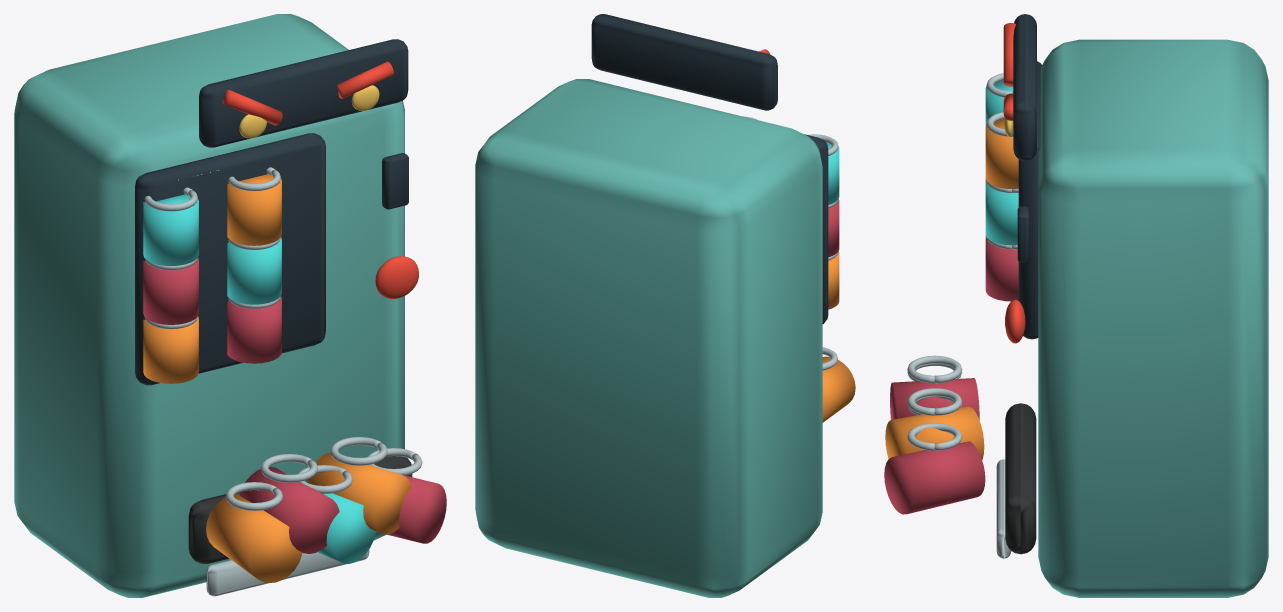
The model's file is S08_Angry_Campus_Vending_Machine.glb.
The picture shows the model from 3 angles, left to right: view 1: azimuth 30°, elevation 25°; view 2: azimuth 150°, elevation 25°; view 3: azimuth 270°, elevation 25°; orthographic projection. The views are drawn at different scales.
Visible parts, largest first — view 1: S08 solid mint steel body, S08_MACHINE_ACTOR | Vending black glass monitor, S08 large angry OLED face above sodas, S08_FLYING_CAN_ACTOR | Fizzy orange soda aluminum, S08_FLYING_CAN_ACTOR | School cola burgundy can, S08_MACHINE_ACTOR | Mint soda bottle bright teal, S08_MACHINE_ACTOR | Fizzy orange soda aluminum, S08_MACHINE_ACTOR | School cola burgundy can, S08_MACHINE_ACTOR | Steel reinforced chrome bevel, S08_FLYING_CAN_ACTOR | Steel reinforced chrome bevel, S08_FACE_ACTOR | Red vending emergency coin reject button, S08 real expelled beverage aluminum cylinder.002 (+2 smaller); view 2: S08 solid mint steel body, S08 large angry OLED face above sodas, S08_FLYING_CAN_ACTOR | Fizzy orange soda aluminum, S08_MACHINE_ACTOR | Vending black glass monitor, S08_MACHINE_ACTOR | Mint soda bottle bright teal, S08_MACHINE_ACTOR | School cola burgundy can, S08_MACHINE_ACTOR | Fizzy orange soda aluminum; view 3: S08 solid mint steel body, S08_FLYING_CAN_ACTOR | School cola burgundy can, S08 snarling lower output hatch, S08_MACHINE_ACTOR | Vending black glass monitor, S08 large angry OLED face above sodas, S08_FLYING_CAN_ACTOR | Steel reinforced chrome bevel, S08_FLYING_CAN_ACTOR | Fizzy orange soda aluminum, S08_MACHINE_ACTOR | Mint soda bottle bright teal, S08_MACHINE_ACTOR | Steel reinforced chrome bevel, S08_MACHINE_ACTOR | School cola burgundy can, S08_MACHINE_ACTOR | Fizzy orange soda aluminum, S08_FACE_ACTOR | Red vending emergency coin reject button.
Part boxes in pixels (left/top/right/bottom): S08 solid mint steel body: left=14, top=14, right=404, bottom=597; S08_MACHINE_ACTOR | Vending black glass monitor: left=135, top=133, right=408, bottom=385; S08 large angry OLED face above sodas: left=199, top=39, right=408, bottom=147; S08_FLYING_CAN_ACTOR | Fizzy orange soda aluminum: left=206, top=452, right=411, bottom=582; S08_FLYING_CAN_ACTOR | School cola burgundy can: left=239, top=467, right=446, bottom=553; S08_MACHINE_ACTOR | Mint soda bottle bright teal: left=143, top=194, right=281, bottom=304; S08_MACHINE_ACTOR | Fizzy orange soda aluminum: left=143, top=174, right=281, bottom=383; S08_MACHINE_ACTOR | School cola burgundy can: left=143, top=258, right=281, bottom=363; S08_MACHINE_ACTOR | Steel reinforced chrome bevel: left=144, top=167, right=369, bottom=596; S08_FLYING_CAN_ACTOR | Steel reinforced chrome bevel: left=225, top=437, right=422, bottom=510; S08_FACE_ACTOR | Red vending emergency coin reject button: left=222, top=61, right=418, bottom=298; S08 real expelled beverage aluminum cylinder.002: left=304, top=480, right=375, bottom=563; S08 solid mint steel body: left=475, top=79, right=822, bottom=597; S08 large angry OLED face above sodas: left=591, top=14, right=777, bottom=110; S08_FLYING_CAN_ACTOR | Fizzy orange soda aluminum: left=822, top=356, right=855, bottom=422; S08_MACHINE_ACTOR | Vending black glass monitor: left=804, top=134, right=828, bottom=323; S08_MACHINE_ACTOR | Mint soda bottle bright teal: left=826, top=142, right=839, bottom=204; S08_MACHINE_ACTOR | School cola burgundy can: left=828, top=199, right=839, bottom=257; S08_MACHINE_ACTOR | Fizzy orange soda aluminum: left=828, top=251, right=839, bottom=309; S08 solid mint steel body: left=1038, top=39, right=1268, bottom=597; S08_FLYING_CAN_ACTOR | School cola burgundy can: left=884, top=378, right=985, bottom=514; S08 snarling lower output hatch: left=1005, top=403, right=1036, bottom=554; S08_MACHINE_ACTOR | Vending black glass monitor: left=1017, top=61, right=1041, bottom=339; S08 large angry OLED face above sodas: left=1013, top=14, right=1036, bottom=161; S08_FLYING_CAN_ACTOR | Steel reinforced chrome bevel: left=907, top=355, right=962, bottom=450; S08_FLYING_CAN_ACTOR | Fizzy orange soda aluminum: left=885, top=406, right=984, bottom=459; S08_MACHINE_ACTOR | Mint soda bottle bright teal: left=985, top=80, right=1018, bottom=245; S08_MACHINE_ACTOR | Steel reinforced chrome bevel: left=986, top=73, right=1018, bottom=558; S08_MACHINE_ACTOR | School cola burgundy can: left=985, top=178, right=1018, bottom=301; S08_MACHINE_ACTOR | Fizzy orange soda aluminum: left=985, top=119, right=1018, bottom=238; S08_FACE_ACTOR | Red vending emergency coin reject button: left=1003, top=23, right=1025, bottom=343.
Bounding box in the file's own units: 1.13 × 1.85 × 1.3.
